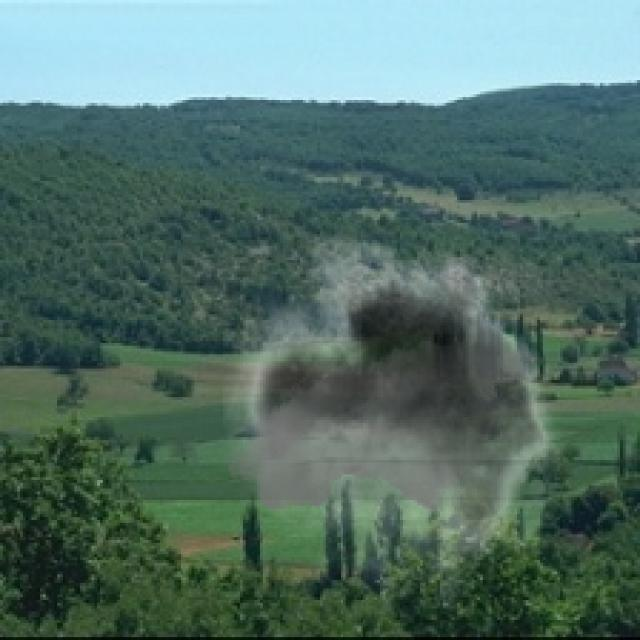smoke: (223, 217, 574, 617)
